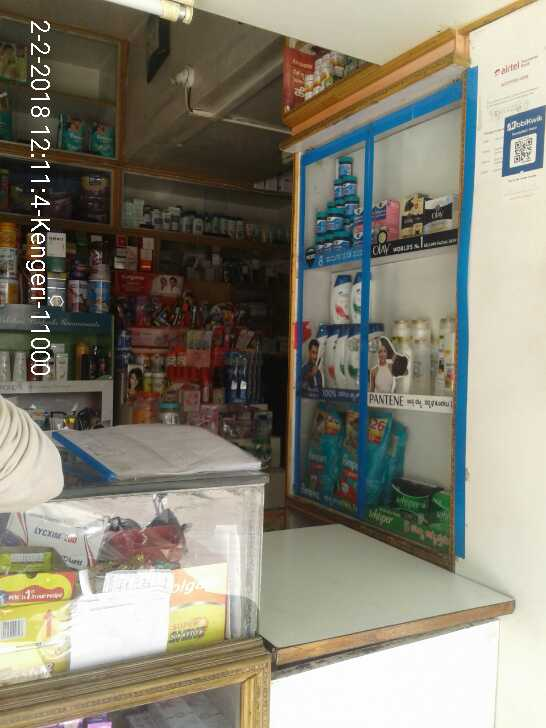beauty: (395, 313, 455, 395), (307, 324, 364, 397), (392, 191, 424, 235), (328, 272, 353, 324), (423, 201, 454, 233)
pharmacy: (312, 154, 359, 256), (339, 409, 384, 514), (294, 406, 334, 500), (387, 483, 434, 519)
